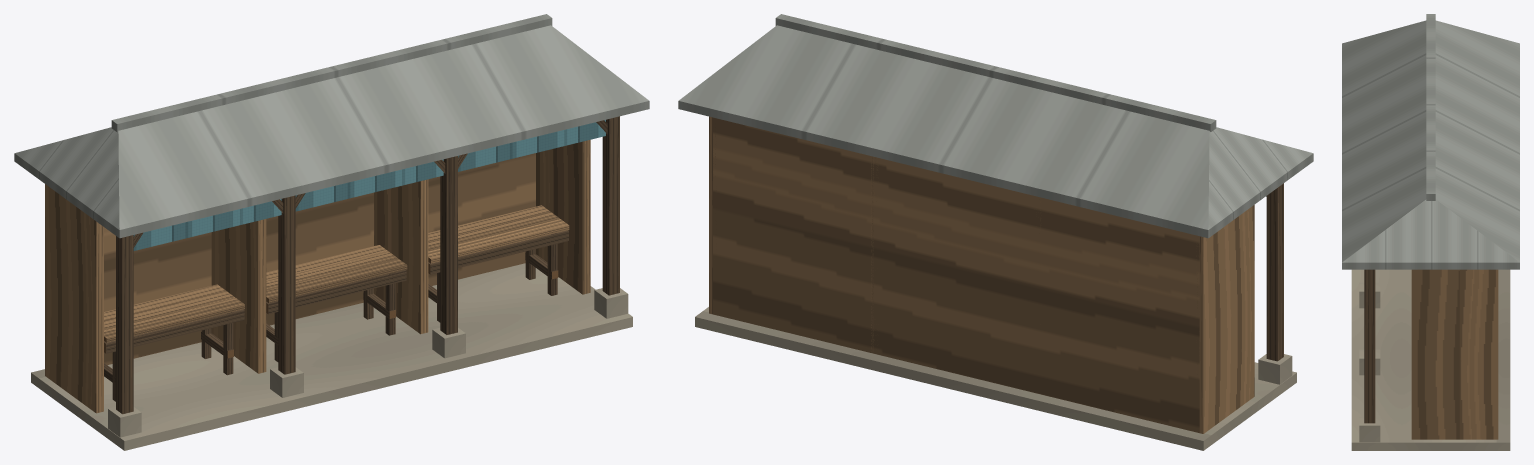
Rendered from st-georges.glb.
3 renders of one model, left to right at view 1: azimuth 30°, elevation 25°; view 2: azimuth 150°, elevation 25°; view 3: azimuth 270°, elevation 25°, orthographic. The views are drawn at different scales.
Parts seen in each view (by area): view 1: st-georges; view 2: st-georges; view 3: st-georges.
Boxes of the visible parts, left/top/right/bottom form: st-georges: left=14, top=14, right=649, bottom=450; st-georges: left=678, top=14, right=1313, bottom=450; st-georges: left=1342, top=14, right=1519, bottom=450.
Size of the model in its own units: 4.86 by 2.5 by 1.67.
Materials: 1 (1 with a texture image).
